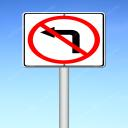NoVirarEsquerda: (23, 13, 105, 67)
